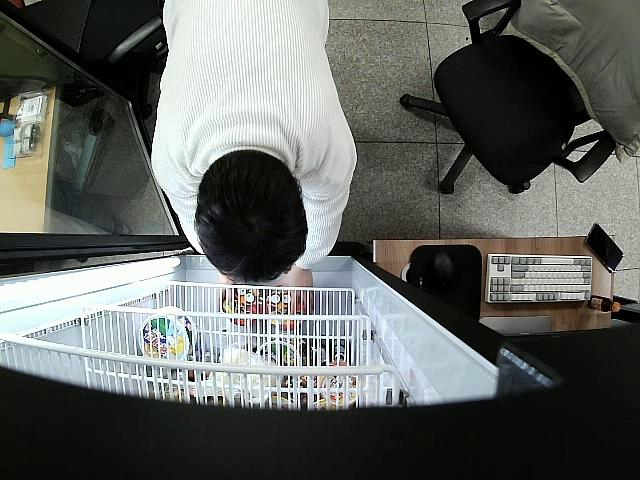00_hand: (283, 269, 315, 316)
05_nuguri_L: (259, 288, 301, 329), (223, 288, 261, 325)
